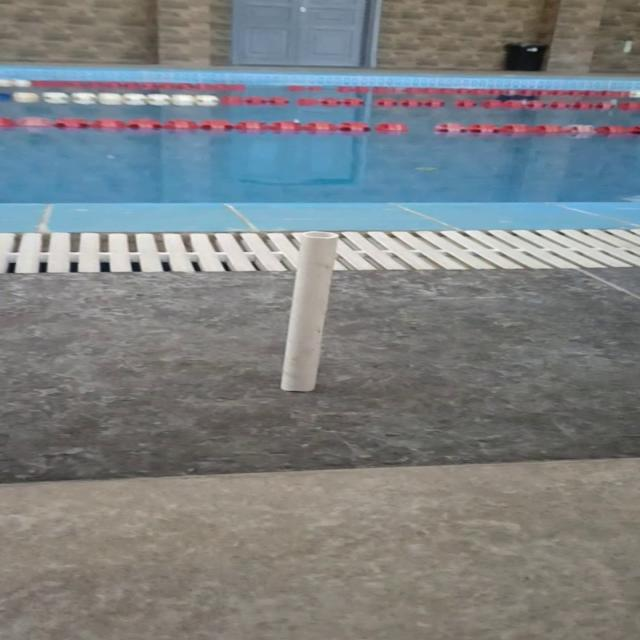Cube: (277, 230, 339, 392)
